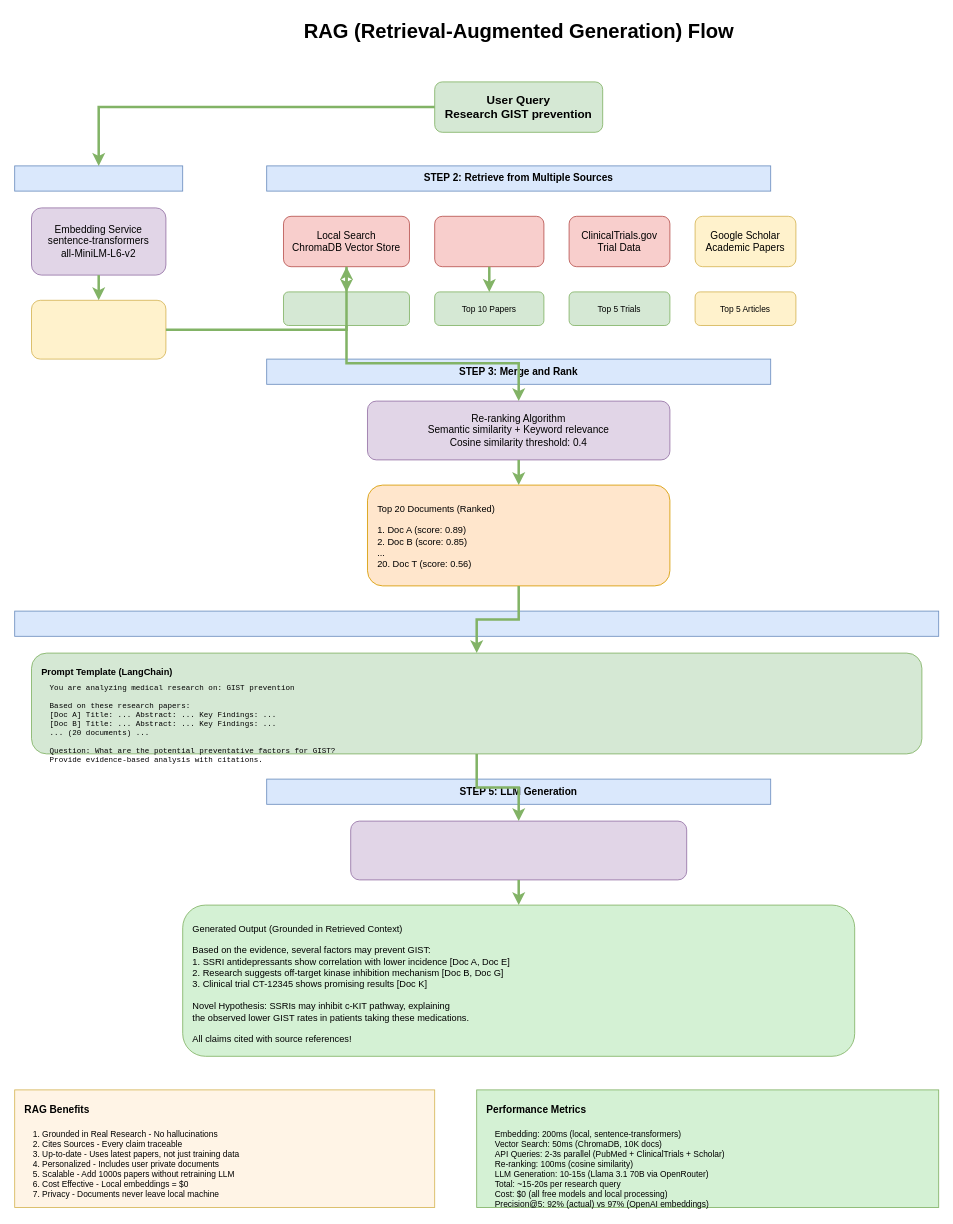
This 953x1224 diagram has some shape labels left out. Each missing label, with the centre of its shape:
OpenRouter LLM Llama 3.1 70B Instruct (Free) 128K context window: the point at 518,850
PubMed API Medical Literature: the point at 489,241
Query Embedding [0.23, -0.45, 0.67, ...] 384-dimensional vector: the point at 98,329
STEP 1: Embed Query: the point at 98,178
STEP 4: Augment Prompt with Context: the point at 476,623
Top 10 User Docs: the point at 346,308
